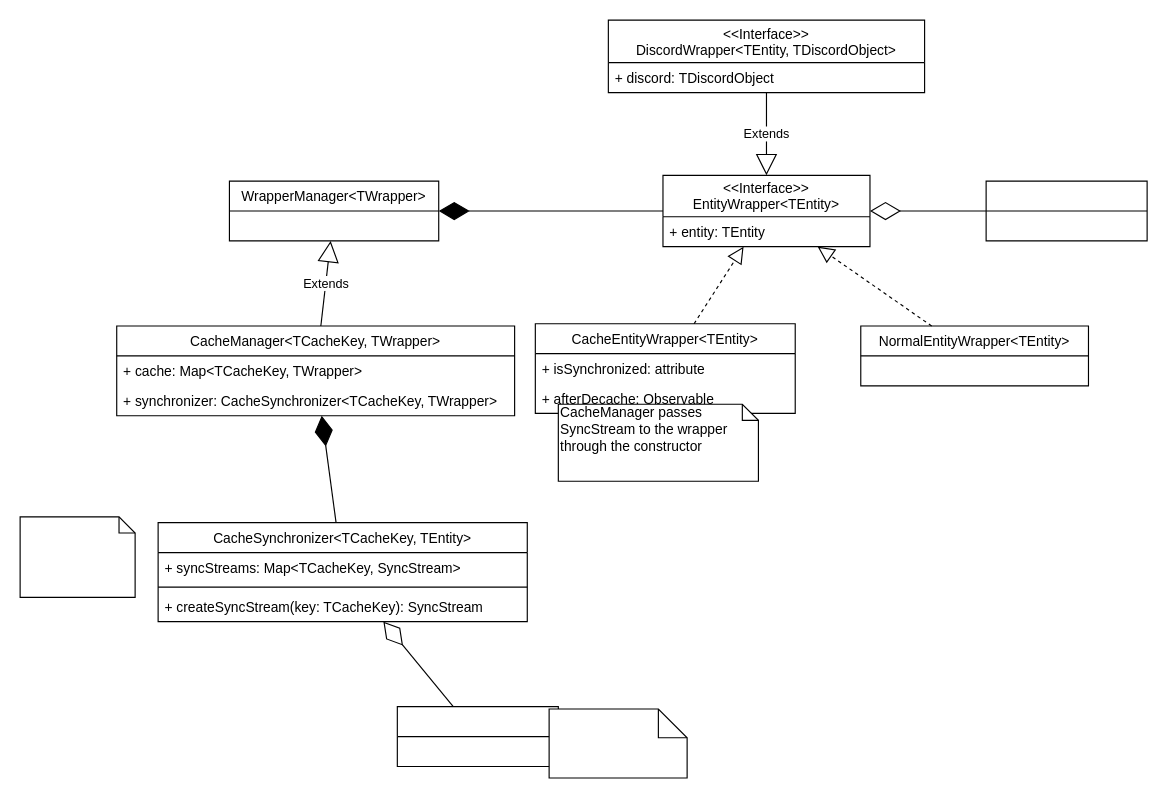
The diagram is 1167 pixels wide and 799 high, and some of its shapes have lost their labels. The centre of each missing label's shape, as x and y in pixels:
DatabaseEventHub: pixel 477 736
Each Wrapper has their own sync stream: pixel 77 556
Entity: pixel 1066 210
Singleton wrapper for pg-listen: pixel 617 743
